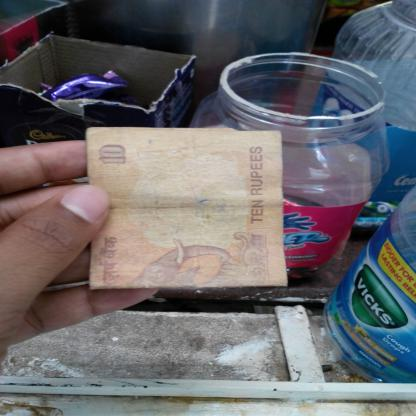Old10Back: (85, 127, 289, 291)
